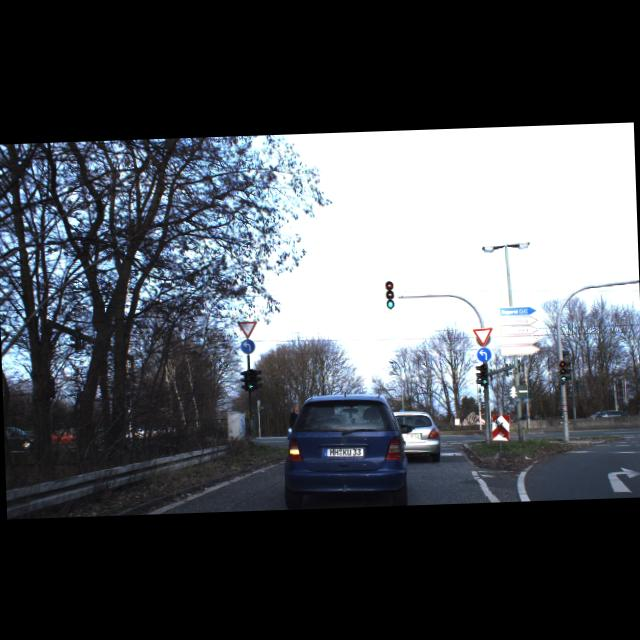mandatory: (476, 346, 492, 362), (239, 338, 255, 353)
other: (472, 326, 494, 347), (235, 319, 258, 338)
